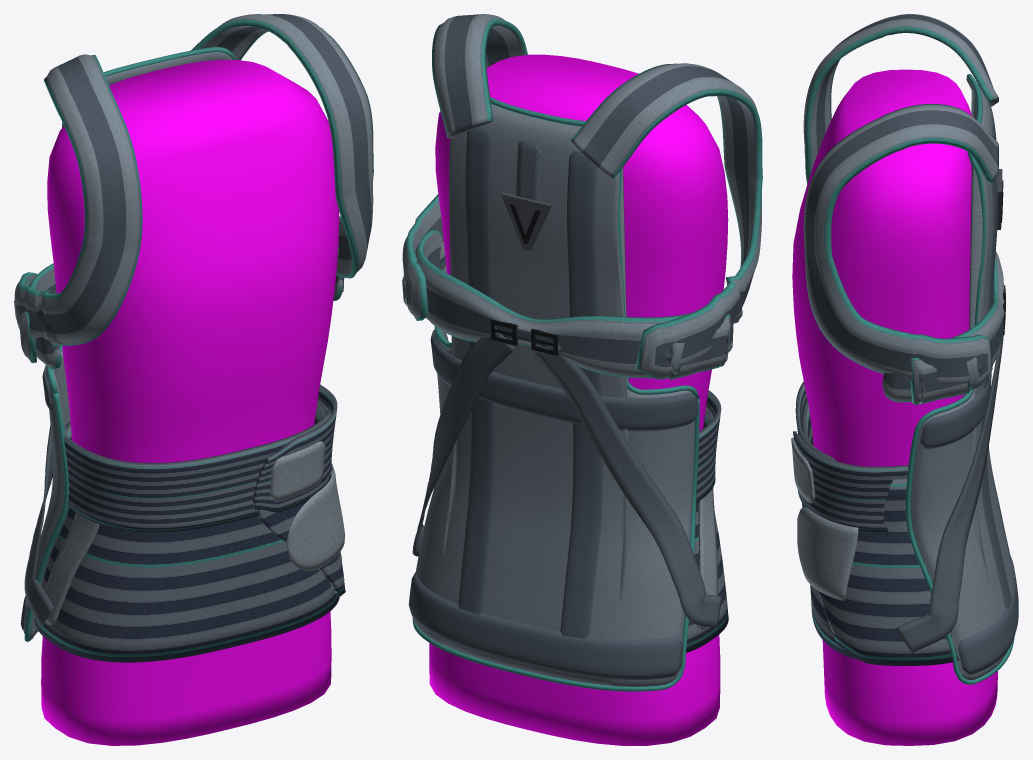
The model's file is taylors_brace.glb.
3 views of the same model, side by side, from view 1: azimuth 30°, elevation 25°; view 2: azimuth 150°, elevation 25°; view 3: azimuth 270°, elevation 25° (orthographic). The views are drawn at different scales.
Visible parts, largest first — view 1: BodyOccluder, AbdominalBelt, ShoulderStrap_R, UpperTorsoBelt, ShoulderStrap_L, FrontClosureTab, RearPanel, SideStrap_R, UpperClosureTab, RearPanel_Piping, DiagonalStrap_R, ScapularBand; view 2: RearPanel, BodyOccluder, ShoulderStrap_R, LumbarBand_Lower, Stay_R, ScapularBand, ShoulderStrap_L, DiagonalStrap_R, Stay_L, LumbarBand_Upper, DiagonalStrap_L, RearPanel_Piping (+5 smaller); view 3: BodyOccluder, ShoulderStrap_L, RearPanel, AbdominalBelt, DiagonalStrap_L, ShoulderStrap_R, UpperTorsoBelt, FrontClosureTab, RearPanel_Piping, LumbarBand_Lower, ScapularBand, LumbarBand_Upper (+2 smaller).
Part boxes in pixels (<box>): BodyOccluder: <box>41,60,339,745</box>; AbdominalBelt: <box>34,400,345,662</box>; ShoulderStrap_R: <box>14,54,142,362</box>; UpperTorsoBelt: <box>64,384,337,532</box>; ShoulderStrap_L: <box>191,14,373,278</box>; FrontClosureTab: <box>286,464,345,570</box>; RearPanel: <box>23,52,232,639</box>; SideStrap_R: <box>44,513,99,624</box>; UpperClosureTab: <box>270,441,325,501</box>; RearPanel_Piping: <box>24,47,235,641</box>; DiagonalStrap_R: <box>24,426,53,626</box>; ScapularBand: <box>29,246,344,369</box>; RearPanel: <box>412,104,694,686</box>; BodyOccluder: <box>429,54,728,745</box>; ShoulderStrap_R: <box>570,63,762,379</box>; LumbarBand_Lower: <box>408,572,683,679</box>; Stay_R: <box>560,151,602,638</box>; ScapularBand: <box>415,230,733,378</box>; ShoulderStrap_L: <box>402,14,527,320</box>; DiagonalStrap_R: <box>534,342,721,627</box>; Stay_L: <box>458,126,494,614</box>; LumbarBand_Upper: <box>430,330,697,431</box>; DiagonalStrap_L: <box>412,327,515,556</box>; RearPanel_Piping: <box>412,97,699,691</box>; BodyOccluder: <box>792,69,997,745</box>; ShoulderStrap_L: <box>803,104,998,404</box>; RearPanel: <box>911,78,1011,680</box>; AbdominalBelt: <box>802,398,958,665</box>; DiagonalStrap_L: <box>896,324,1003,653</box>; ShoulderStrap_R: <box>803,14,998,183</box>; UpperTorsoBelt: <box>793,381,908,531</box>; FrontClosureTab: <box>797,507,858,600</box>; RearPanel_Piping: <box>905,74,1014,684</box>; LumbarBand_Lower: <box>958,556,1018,674</box>; ScapularBand: <box>882,251,1004,402</box>; LumbarBand_Upper: <box>920,371,991,448</box>.
Size of the model in its own units: 0.3985 by 0.7755 by 0.2577.
Materials: 10 (5 with a texture image).
